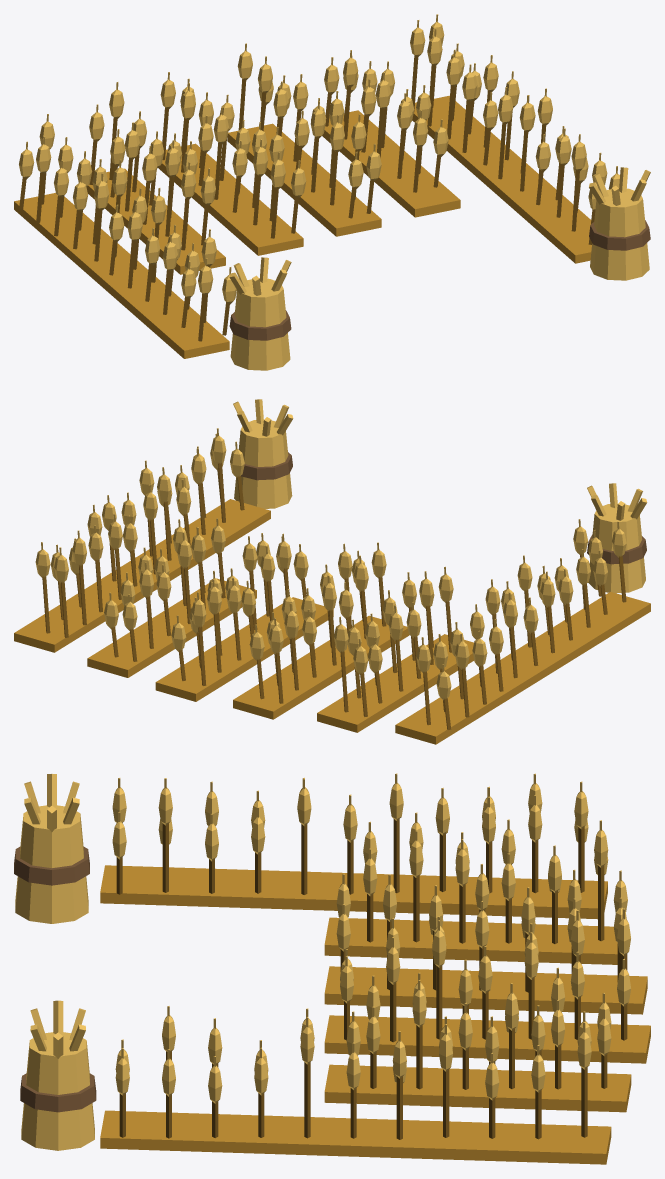
Rendered from terrain-field-0.glb.
3 views of the same model, one above another, from view 1: azimuth 30°, elevation 25°; view 2: azimuth 150°, elevation 25°; view 3: azimuth 270°, elevation 25° (orthographic). The views are drawn at different scales.
Visible parts, largest first — view 1: terrain-field-0.002, terrain-field-0, terrain-field-0.001, terrain-field-0.003; view 2: terrain-field-0.002, terrain-field-0, terrain-field-0.001, terrain-field-0.003; view 3: terrain-field-0, terrain-field-0.002, terrain-field-0.001, terrain-field-0.003.
Part boxes in pixels (x1,y1,x2,y2): terrain-field-0.002: (19,14,650,370); terrain-field-0: (14,95,591,358); terrain-field-0.001: (19,55,595,341); terrain-field-0.003: (229,220,650,340); terrain-field-0.002: (35,399,647,700); terrain-field-0: (14,499,650,744); terrain-field-0.001: (42,463,626,729); terrain-field-0.003: (241,452,646,564); terrain-field-0: (100,865,650,1164); terrain-field-0.002: (15,773,630,1150); terrain-field-0.001: (116,819,627,1139); terrain-field-0.003: (14,847,96,1112).
Size of the model in its own units: 1.09 by 0.239 by 1.02.
